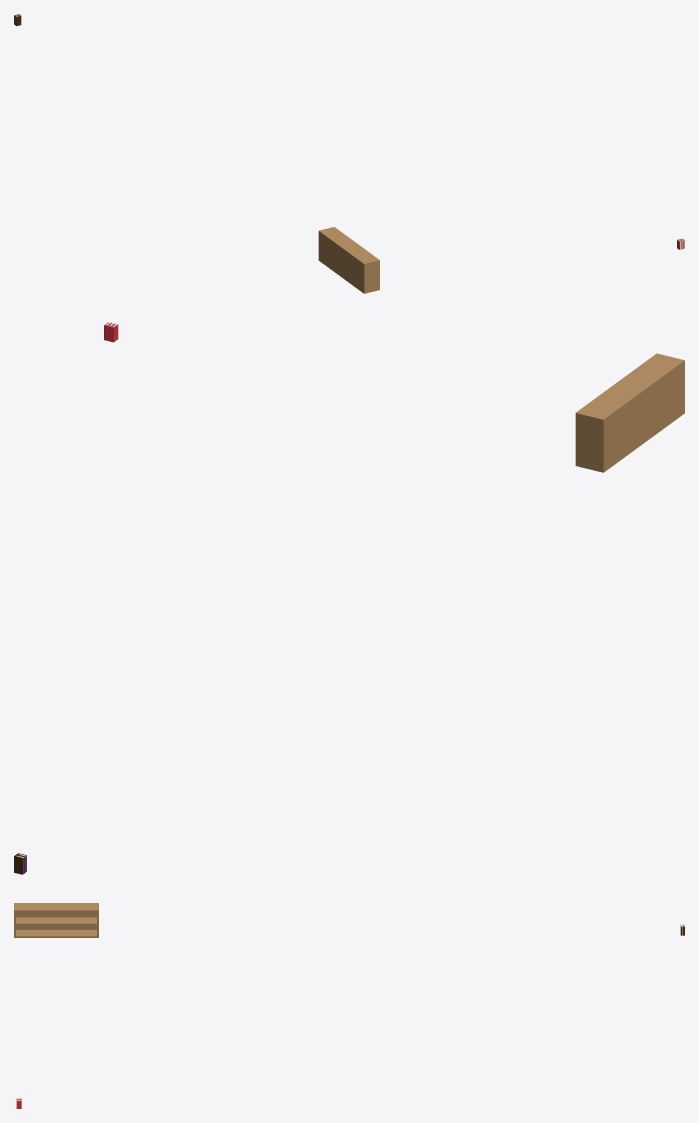
The model's file is bookshelf1.fbx.
3 renders of one model, top to bottom at view 1: azimuth 30°, elevation 25°; view 2: azimuth 150°, elevation 25°; view 3: azimuth 270°, elevation 25°, orthographic. The views are drawn at different scales.
Visible parts, largest first — view 1: bookshelf3; view 2: bookshelf3; view 3: bookshelf3.
Part boxes in pixels (<box>): bookshelf3: <box>318,227,379,293</box>; bookshelf3: <box>575,353,684,472</box>; bookshelf3: <box>14,903,98,937</box>.
Bounding box in the file's own units: 1936 × 370 × 3757.
